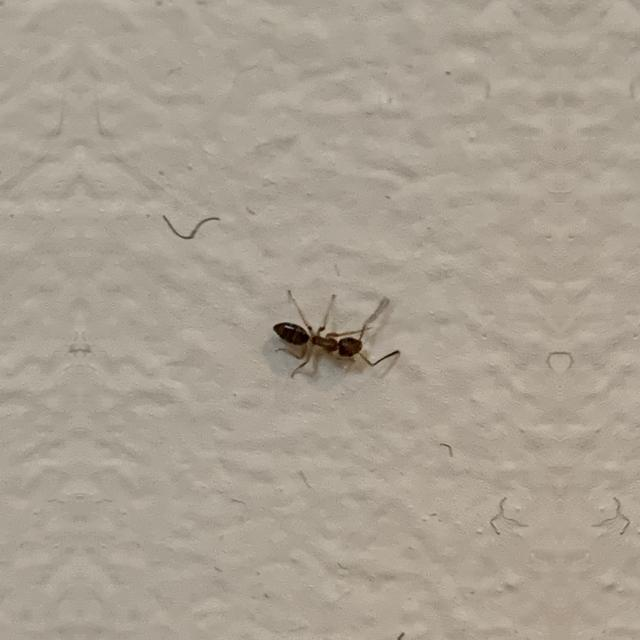Tapinoma: (265, 283, 393, 387)
